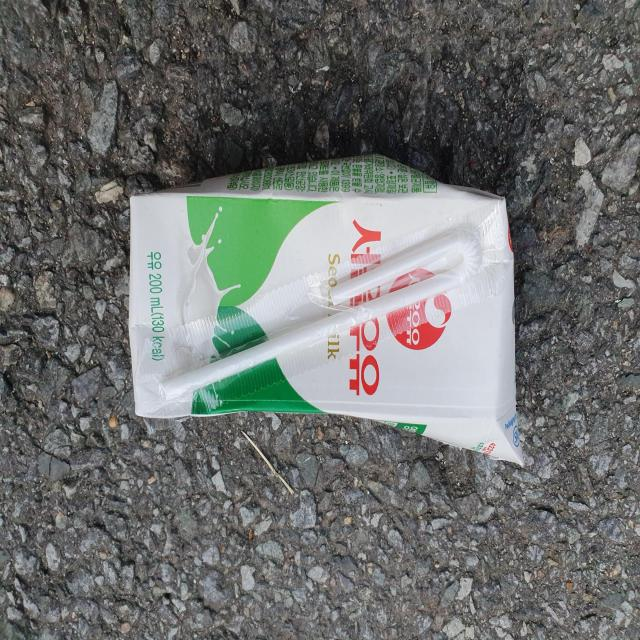paperpack: (129, 154, 524, 465)
